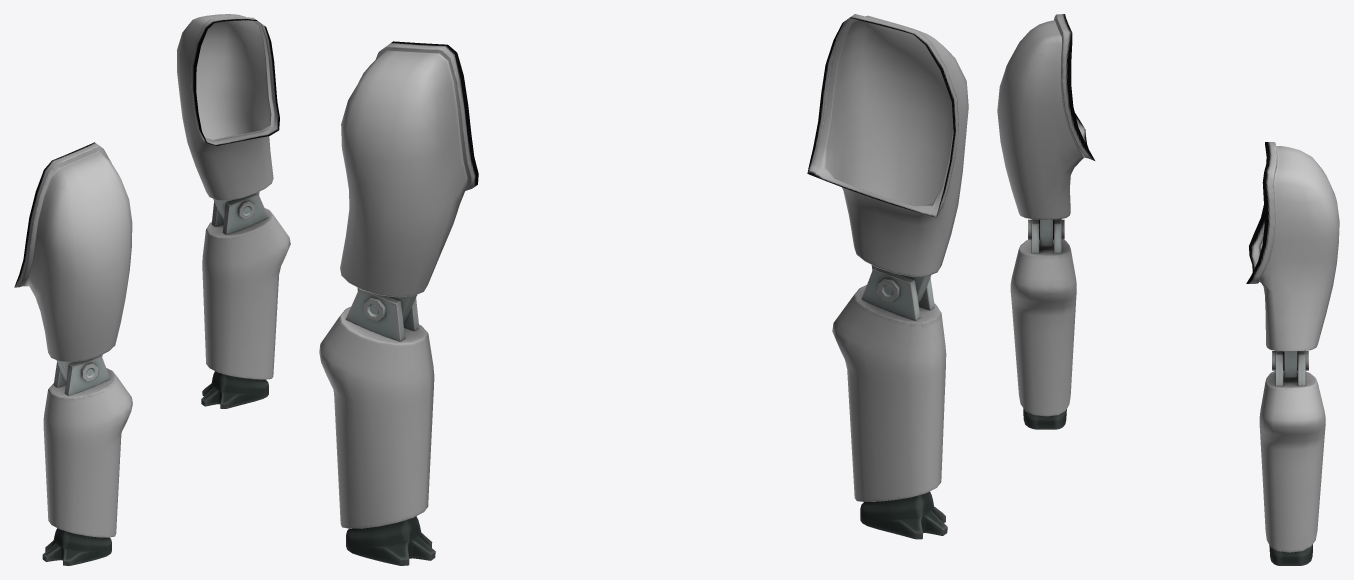
Rendered from left_front_leg.obj.
3 renders of one model, left to right at view 1: azimuth 30°, elevation 25°; view 2: azimuth 150°, elevation 25°; view 3: azimuth 270°, elevation 25°, orthographic. The views are drawn at different scales.
Visible parts, largest first — view 1: Useless_Dog__Leg_front_left, Useless_Dog__Leg_back_right; view 2: Useless_Dog__Leg_front_left, Useless_Dog__Leg_back_right; view 3: Useless_Dog__Leg_back_right, Useless_Dog__Leg_front_left.
Part boxes in pixels (x1=…): Useless_Dog__Leg_front_left: x1=14, y1=142, x2=132, y2=565; Useless_Dog__Leg_back_right: x1=177, y1=14, x2=290, y2=408; Useless_Dog__Leg_front_left: x1=807, y1=14, x2=968, y2=539; Useless_Dog__Leg_back_right: x1=319, y1=41, x2=478, y2=565; Useless_Dog__Leg_back_right: x1=1246, y1=142, x2=1339, y2=565; Useless_Dog__Leg_front_left: x1=997, y1=14, x2=1094, y2=429.
Size of the model in its own units: 1.93 by 1.96 by 1.53.
